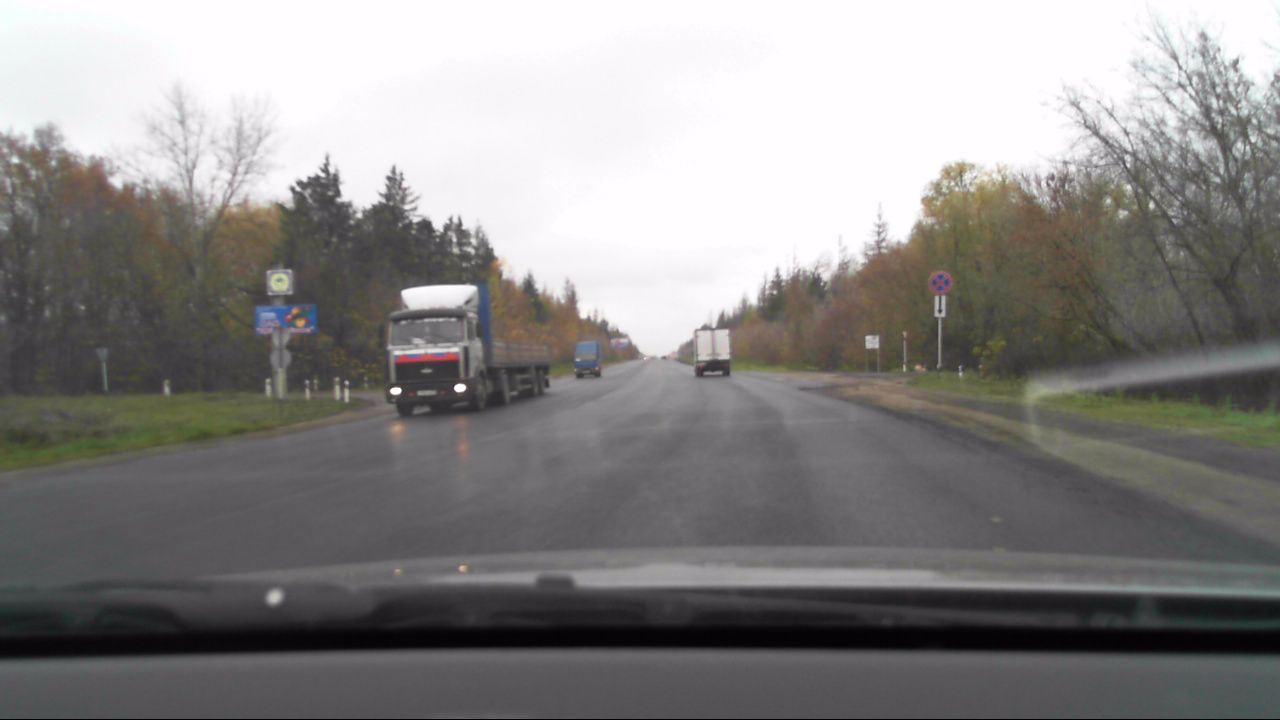No Parking: (927, 269, 953, 295)
